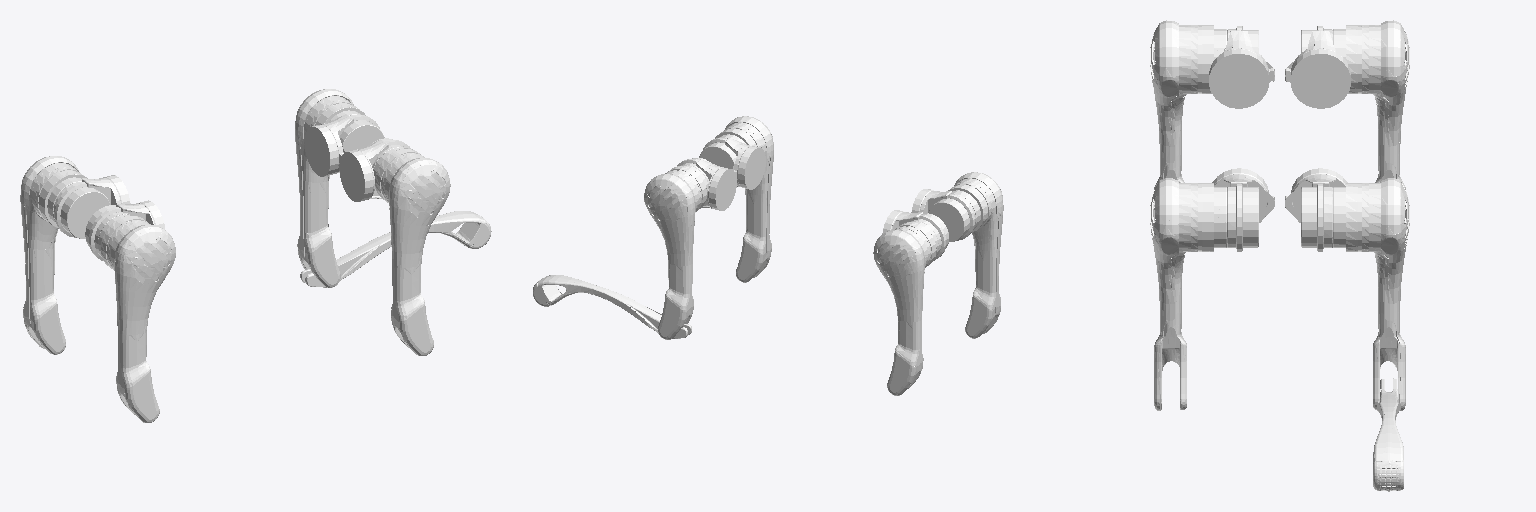
--- What the picture shows (computed from the rendered views, not written in the file) ---
The picture shows the robot from 3 angles, left to right: view 1: azimuth 30°, elevation 25°; view 2: azimuth 150°, elevation 25°; view 3: azimuth 270°, elevation 25°; orthographic projection.
Robot: b1z1_description — 38 links, 37 joints (12 revolute, 25 fixed); root link base; default pose: all joints at 0 but 4 set to mid-range because 0 is outside their limits (FL_calf_joint = -1.62, FR_calf_joint = -1.62, RL_calf_joint = -1.62, RR_calf_joint = -1.62).
Visible links, largest first — view 1: RR_thigh, FR_thigh, RL_thigh, FL_thigh, FL_hip, FL_calf, RL_hip, FR_hip, RR_hip; view 2: RL_thigh, FL_thigh, RR_thigh, FR_thigh, FL_calf, FR_hip, RR_hip, FL_hip, RL_hip; view 3: FR_thigh, FL_thigh, RL_thigh, RR_thigh, RL_hip, RR_hip, FL_hip, FR_hip, FL_calf.
Boxes of the visible links, bbox=[...] form: RR_thigh: bbox=[98, 214, 175, 422]; FR_thigh: bbox=[373, 147, 450, 355]; RL_thigh: bbox=[20, 156, 87, 354]; FL_thigh: bbox=[295, 89, 365, 287]; FL_hip: bbox=[305, 114, 384, 176]; FL_calf: bbox=[300, 211, 491, 287]; RL_hip: bbox=[53, 175, 130, 238]; FR_hip: bbox=[339, 138, 410, 201]; RR_hip: bbox=[85, 200, 164, 260]; RL_thigh: bbox=[873, 221, 938, 395]; FL_thigh: bbox=[644, 165, 708, 339]; RR_thigh: bbox=[948, 172, 1003, 338]; FR_thigh: bbox=[715, 116, 773, 282]; FL_calf: bbox=[533, 275, 691, 338]; FR_hip: bbox=[699, 137, 765, 189]; RR_hip: bbox=[911, 189, 975, 241]; FL_hip: bbox=[677, 158, 736, 210]; RL_hip: bbox=[882, 210, 948, 260]; FR_thigh: bbox=[1150, 178, 1226, 410]; FL_thigh: bbox=[1333, 178, 1409, 410]; RL_thigh: bbox=[1333, 20, 1409, 189]; RR_thigh: bbox=[1150, 20, 1226, 200]; RL_hip: bbox=[1285, 26, 1350, 108]; RR_hip: bbox=[1209, 26, 1274, 108]; FL_hip: bbox=[1285, 168, 1347, 251]; FR_hip: bbox=[1212, 168, 1274, 251]; FL_calf: bbox=[1373, 378, 1403, 491].
Size in the robot's own frame: 1.11 by 0.4582 by 0.4441 metres.
Meshes: 13 distinct files referenced, 9 mesh visuals loaded (9 Collada DAE); not drawn: 4 (reference not matched to a file when rendering).

The robot description file, URDF, robot "b1z1_description":
<robot name="b1z1_description">
  <!-- Common base -->
  <link name="base">
    <visual>
      <origin rpy="0 0 0" xyz="0 0 0" />
      <geometry>
        <box size="0.001 0.001 0.001" />
      </geometry>
    </visual>
  </link>
  <!-- Start of B2 Links and Joints -->
  <joint name="floating_base_joint" type="fixed" dont_collapse="true">
    <origin rpy="0 0 0" xyz="0 0 0" />
    <parent link="base" />
    <child link="floating_base_link" />
  </joint>
  <link
    name="floating_base_link">
    <inertial>
      <origin
        xyz="0.000458 0.005261 0.000665"
        rpy="0 0 0" />
      <mass
        value="35.86" />
      <inertia
        ixx="0.27466"
        ixy="-0.000622"
        ixz="0.00315"
        iyy="1.0618"
        iyz="-0.00139"
        izz="1.1825" />
    </inertial>
    <visual>
      <origin
        xyz="0 0 0"
        rpy="0 0 0" />
      <geometry>
        <mesh
          filename="../meshes/base_link.dae" />
      </geometry>
      <material
        name="">
        <color
          rgba="1 1 1 1" />
      </material>
    </visual>
    <collision>
      <origin
        xyz="0 0 0"
        rpy="0 0 0" />
        <geometry>
          <box size="0.5 0.28 0.15" />
        </geometry>
    </collision>
  </link>
  <joint
    name="joint_lidar"
    type="fixed">
    <origin
      xyz="0.34218 0 0.17851"
      rpy="0 0 0" />
    <parent
      link="floating_base_link" />
    <child
      link="lidar_link" />
    <axis
      xyz="0 0 0" />
  </joint>
  <link
    name="lidar_link">
    <inertial>
      <origin
        xyz="0.34218 0 0.17851"
        rpy="0 0 0" />
      <mass
        value="4.19E-15" />
      <inertia
        ixx="1.68E-27"
        ixy="-3.2E-45"
        ixz="7.68E-44"
        iyy="1.68E-27"
        iyz="-9.26E-47"
        izz="1.68E-27" />
    </inertial>
    <collision>
      <origin
        xyz="0 0 -0.02"
        rpy="0 0 0" />
      <geometry>
        <cylinder length="0.16" radius="0.076" />
        <!-- <mesh
          filename="package://b2/meshes/lidar_link.STL" /> -->
      </geometry>
    </collision>
  </link>
  <joint
    name="f_dc_joint"
    type="fixed">
    <origin
      xyz="0.41251 0.024997 0.04765"
      rpy="-2.3562 0 -1.5708" />
    <parent
      link="floating_base_link" />
    <child
      link="f_dc_link" />
    <axis
      xyz="0 0 0" />
  </joint>
  <link
    name="f_dc_link">
    <inertial>
      <origin
        xyz="3.47E-18 0 5.55E-17"
        rpy="0 0 0" />
      <mass
        value="4.19E-15" />
      <inertia
        ixx="1.68E-27"
        ixy="-9.81E-45"
        ixz="-2.54E-44"
        iyy="1.68E-27"
        iyz="0"
        izz="1.68E-27" />
    </inertial>
  </link>
  <joint
    name="r_dc_joint"
    type="fixed">
    <origin
      xyz="-0.4081 -0.025 0.024861"
      rpy="-2.3557 0 1.5708" />
    <parent
      link="floating_base_link" />
    <child
      link="r_dc_link" />
    <axis
      xyz="0 0 0" />
  </joint>
  <link
    name="r_dc_link">
    <inertial>
      <origin
        xyz="-7.46E-16 -3.33E-16 -1.11E-15"
        rpy="0 0 0" />
      <mass
        value="4.19E-15" />
      <inertia
        ixx="1.68E-27"
        ixy="-4.31E-44"
        ixz="2.48E-45"
        iyy="1.68E-27"
        iyz="0"
        izz="1.68E-27" />
    </inertial>
  </link>
  <joint
    name="imu_joint"
    type="fixed">
    <origin
      xyz="0 -0.02341 0.04927"
      rpy="0 0 0" />
    <parent
      link="floating_base_link" />
    <child
      link="imu_link" />
    <axis
      xyz="0 0 0" />
  </joint>
  <link
    name="imu_link">
    <inertial>
      <origin
        xyz="-2.02E-17 1.73E-17 -1.39E-17"
        rpy="0 0 0" />
      <mass
        value="4.19E-15" />
      <inertia
        ixx="1.68E-27"
        ixy="1.84E-44"
        ixz="-7.35E-44"
        iyy="1.68E-27"
        iyz="-3.67E-44"
        izz="1.68E-27" />
    </inertial>
  </link>
  <joint
    name="head_joint"
    type="fixed">
    <origin
      xyz="0 0 0"
      rpy="0 0 0" />
    <parent
      link="floating_base_link" />
    <child
      link="head_Link" />
    <axis
      xyz="0 0 0" />
  </joint>
  <link
    name="head_Link">
    <inertial>
      <origin
        xyz="0.33989 -0.000168 0.12029"
        rpy="0 0 0" />
      <mass
        value="3.6885" />
      <inertia
        ixx="0.026455"
        ixy="3.15E-05"
        ixz="0.00166"
        iyy="0.029221"
        iyz="-3.27E-05"
        izz="0.010918" />
    </inertial>
    <collision>
      <origin
        xyz="0.41 0 0.005"
        rpy="0 0 0" />
      <geometry>
        <box size="0.04 0.12 0.14" />
      </geometry>
    </collision>
  </link>
  <joint
    name="tail_joint"
    type="fixed">
    <origin
      xyz="0 0 0"
      rpy="0 0 0" />
    <parent
      link="floating_base_link" />
    <child
      link="tail_link" />
    <axis
      xyz="0 0 0" />
  </joint>
  <link
    name="tail_link">
    <inertial>
      <origin
        xyz="-0.37448 0.000488 0.006495"
        rpy="0 0 0" />
      <mass
        value="0.795" />
      <inertia
        ixx="0.0028118"
        ixy="1.95E-05"
        ixz="-7.87E-06"
        iyy="0.0047506"
        iyz="-1.57E-05"
        izz="0.0029154" />
    </inertial>
    <collision>
      <origin
        xyz="-0.405 0 0.005"
        rpy="0 0 0" />
      <geometry>
        <box size="0.025 0.12 0.14" />
      </geometry>
    </collision>
  </link>
  <joint
    name="FL_hip_joint"
    type="revolute">
    <origin
      xyz="0.3285 0.072 0"
      rpy="0 0 0" />
    <parent
      link="floating_base_link" />
    <child
      link="FL_hip" />
    <axis
      xyz="1 0 0" />
    <limit
      lower="-0.87"
      upper="0.87"
      effort="200"
      velocity="23" />
  </joint>
  <link
    name="FL_hip">
    <inertial>
      <origin
        xyz="-0.003841 -0.009068 0"
        rpy="0 0 0" />
      <mass
        value="2.673" />
      <inertia
        ixx="0.0033188"
        ixy="7.16E-05"
        ixz="-3.77E-07"
        iyy="0.0048743"
        iyz="4E-09"
        izz="0.0037087" />
    </inertial>
    <visual>
      <origin
        xyz="0 0 0"
        rpy="0 0 0" />
      <geometry>
        <mesh
          filename="../meshes/FL_hip.dae" />
      </geometry>
      <material
        name="">
        <color
          rgba="1 1 1 1" />
      </material>
    </visual>
    <collision>
      <origin
        xyz="0 0.12 0"
        rpy="1.5707963267948966 0 0" />
      <geometry>
        <cylinder length="0.05" radius="0.07" />
      </geometry>
    </collision>
  </link>
  <joint name="FL_hip_rotor_joint" type="fixed">
    <origin rpy="0 0 0" xyz="0.20205 0.072 0"/>
    <parent link="floating_base_link"/>
    <child link="FL_hip_rotor"/>
  </joint>
  <link name="FL_hip_rotor">
    <collision>
      <origin rpy="0 1.5707963267948966 0" xyz="0 0 0"/>
      <geometry>
        <cylinder length="0.02" radius="0.05"/>
      </geometry>
    </collision>
    <inertial>
      <origin rpy="0 0 0" xyz="0.0 0.0 0.0"/>
      <mass value="0.2734"/>
      <inertia ixx="0.000144463" ixy="0.0" ixz="0.0" iyy="0.000144463" iyz="0.0" izz="0.000263053"/>
    </inertial>
  </link>
  <joint
    name="FL_thigh_joint"
    type="revolute">
    <origin
      xyz="0 0.11973 0"
      rpy="0 0 0" />
    <parent
      link="FL_hip" />
    <child
      link="FL_thigh" />
    <axis
      xyz="0 1 0" />
    <limit
      lower="-0.94"
      upper="4.69"
      effort="200"
      velocity="23" />
  </joint>
  <link
    name="FL_thigh">
    <inertial>
      <origin
        xyz="-0.006279 -0.032049 -0.057835"
        rpy="0 0 0" />
      <mass
        value="4.536" />
      <inertia
        ixx="0.062299"
        ixy="0.00087781"
        ixz="-0.0036475"
        iyy="0.061399"
        iyz="0.0083537"
        izz="0.0081997" />
    </inertial>
    <visual>
      <origin
        xyz="0 0 0"
        rpy="0 0 0" />
      <geometry>
        <mesh
          filename="../meshes/FL_thigh.dae" />
      </geometry>
      <material
        name="">
        <color
          rgba="1 1 1 1" />
      </material>
    </visual>
    <collision>
      <origin
        xyz="-0.025 0 -0.16"
        rpy="0 1.57 0" />
      <geometry>
        <box size="0.32 0.0445 0.054" />
      </geometry>
    </collision>
  </link>
  <joint name="FL_thigh_rotor_joint" type="fixed">
    <origin rpy="0 0 0" xyz="0 -0.00798 0"/>
    <parent link="FL_hip"/>
    <child link="FL_thigh_rotor"/>
  </joint>
  <link name="FL_thigh_rotor">
    <collision>
      <origin rpy="1.5707963267948966 0 0" xyz="0 0 0"/>
      <geometry>
        <cylinder length="0.02" radius="0.05"/>
      </geometry>
    </collision>
    <inertial>
      <origin rpy="0 0 0" xyz="0.0 0.0 0.0"/>
      <mass value="0.2734"/>
      <inertia ixx="0.000144463" ixy="0.0" ixz="0.0" iyy="0.000144463" iyz="0.0" izz="0.000263053"/>
    </inertial>
  </link>
  <joint
    name="FL_calf_joint"
    type="revolute">
    <origin
      xyz="0 -8.6984E-05 -0.35"
      rpy="0 0 0" />
    <parent
      link="FL_thigh" />
    <child
      link="FL_calf" />
    <axis
      xyz="0 1 0" />
    <limit
      lower="-2.82"
      upper="-0.43"
      effort="320"
      velocity="14" />
  </joint>
  <link
    name="FL_calf">
    <inertial>
      <origin
        xyz="0.012422 0 -0.12499"
        rpy="0 0 0" />
      <mass
        value="0.404" />
      <inertia
        ixx="0.01143"
        ixy="0"
        ixz="0.000643"
        iyy="0.011534"
        iyz="0"
        izz="0.000331" />
    </inertial>
    <visual>
      <origin
        xyz="0 0 0"
        rpy="0 0 0" />
      <geometry>
        <mesh
          filename="../meshes/FL_calf.dae" />
      </geometry>
      <material
        name="">
        <color
          rgba="1 1 1 1" />
      </material>
    </visual>
    <collision>
      <origin rpy="0 1.2 0" xyz="-0.002 0 -0.03"/>
      <geometry>
        <box size="0.1 0.0245 0.018"/>
      </geometry>
    </collision>
    <collision>
      <origin rpy="0 1.35 0" xyz="0.022 0 -0.1"/>
      <geometry>
        <box size="0.1 0.0245 0.018"/>
      </geometry>
    </collision>
    <collision>
      <origin rpy="0 1.53 0" xyz="0.036 0 -0.225"/>
      <geometry>
        <box size="0.15 0.0245 0.015"/>
      </geometry>
    </collision>
    <collision>
      <origin rpy="0 2 0" xyz="0.023 0 -0.31"/>
      <geometry>
        <box size="0.05 0.028 0.035"/>
      </geometry>
    </collision>
  </link>
  <joint name="FL_calf_rotor_joint" type="fixed">
    <origin rpy="0 0 0" xyz="0 -0.05788 0"/>
    <parent link="FL_thigh"/>
    <child link="FL_calf_rotor"/>
  </joint>
  <link name="FL_calf_rotor">
    <collision>
      <origin rpy="1.5707963267948966 0 0" xyz="0 0 0"/>
      <geometry>
        <cylinder length="0.02" radius="0.05"/>
      </geometry>
    </collision>
    <inertial>
      <origin rpy="0 0 0" xyz="0.0 0.0 0.0"/>
      <mass value="0.2734"/>
      <inertia ixx="0.000144463" ixy="0.0" ixz="0.0" iyy="0.000144463" iyz="0.0" izz="0.000263053"/>
    </inertial>
  </link>
  <joint
    name="FL_foot_joint"
    type="fixed">
    <origin
      xyz="0 0 -0.35"
      rpy="0 0 0" />
    <parent
      link="FL_calf" />
    <child
      link="FL_foot" />
  </joint>
  <link
    name="FL_foot">
    <inertial>
      <origin
        xyz="-0.006511 0 -0.010144"
        rpy="0 0 0" />
      <mass
        value="0.126" />
      <inertia
        ixx="3.8E-05"
        ixy="0"
        ixz="1.1E-05"
        iyy="4.1E-05"
        iyz="0"
        izz="4.2E-05" />
    </inertial>
    <collision>
      <origin
        xyz="0 0 0"
        rpy="1.57 0 0" />
      <geometry>
        <sphere radius="0.032" />
      </geometry>
    </collision>
  </link>
  <joint
    name="FR_hip_joint"
    type="revolute">
    <origin
      xyz="0.3285 -0.072 0"
      rpy="0 0 0" />
    <parent
      link="floating_base_link" />
    <child
      link="FR_hip" />
    <axis
      xyz="1 0 0" />
    <limit
      lower="-0.87"
      upper="0.87"
      effort="200"
      velocity="23" />
  </joint>
  <link
    name="FR_hip">
    <inertial>
      <origin
        xyz="-0.009305 0.010228 0.000264"
        rpy="0 0 0" />
      <mass
        value="2.673" />
      <inertia
        ixx="0.0026431"
        ixy="-0.00019234"
        ixz="-6.76E-06"
        iyy="0.0046728"
        iyz="7.16E-06"
        izz="0.0034208" />
    </inertial>
    <visual>
      <origin
        xyz="0 0 0"
        rpy="0 0 0" />
      <geometry>
        <mesh
          filename="../meshes/FR_hip.dae" />
      </geometry>
      <material
        name="">
        <color
          rgba="1 1 1 1" />
      </material>
    </visual>
    <collision>
      <origin
        xyz="0 -0.12 0"
        rpy="1.5707963267948966 0 0" />
      <geometry>
        <cylinder length="0.05" radius="0.07" />
      </geometry>
    </collision>
  </link>
  <joint name="FR_hip_rotor_joint" type="fixed">
    <origin rpy="0 0 0" xyz="0.20205 -0.072 0"/>
    <parent link="floating_base_link"/>
    <child link="FR_hip_rotor"/>
  </joint>
  <link name="FR_hip_rotor">
    <collision>
      <origin rpy="0 1.5707963267948966 0" xyz="0 0 0"/>
      <geometry>
        <cylinder length="0.02" radius="0.05"/>
      </geometry>
    </collision>
    <inertial>
      <origin rpy="0 0 0" xyz="0.0 0.0 0.0"/>
      <mass value="0.2734"/>
      <inertia ixx="0.000144463" ixy="0.0" ixz="0.0" iyy="0.000144463" iyz="0.0" izz="0.000263053"/>
    </inertial>
  </link>
  <joint
    name="FR_thigh_joint"
    type="revolute">
    <origin
      xyz="0 -0.11973 0"
      rpy="0 0 0" />
    <parent
      link="FR_hip" />
    <child
      link="FR_thigh" />
    <axis
      xyz="0 1 0" />
    <limit
      lower="-0.94"
      upper="4.69"
      effort="200"
      velocity="23" />
  </joint>
  <link
    name="FR_thigh">
    <inertial>
      <origin
        xyz="-0.006279 0.032049 -0.057835"
        rpy="0 0 0" />
      <mass
        value="4.536" />
      <inertia
        ixx="0.06229908"
        ixy="-0.000877808"
        ixz="-0.003647464"
        iyy="0.06139927"
        iyz="-0.008353671"
        izz="0.008199745" />
    </inertial>
    <visual>
      <origin
        xyz="0 0 0"
        rpy="0 0 0" />
      <geometry>
        <mesh
          filename="../meshes/FR_thigh.dae" />
      </geometry>
      <material
        name="">
        <color
          rgba="1 1 1 1" />
      </material>
    </visual>
    <collision>
      <origin rpy="0 1.57 0" xyz="-0.03 0 -0.2"/>
      <geometry>
        <box size="0.25 0.028 0.04"/>
      </geometry>
    </collision>
  </link>
  <joint name="FR_thigh_rotor_joint" type="fixed">
    <origin rpy="0 0 0" xyz="0 0.00798 0"/>
    <parent link="FR_hip"/>
    <child link="FR_thigh_rotor"/>
  </joint>
  <link name="FR_thigh_rotor">
    <collision>
      <origin rpy="1.5707963267948966 0 0" xyz="0 0 0"/>
      <geometry>
        <cylinder length="0.02" radius="0.05"/>
      </geometry>
    </collision>
    <inertial>
      <origin rpy="0 0 0" xyz="0.0 0.0 0.0"/>
      <mass value="0.2734"/>
      <inertia ixx="0.000144463" ixy="0.0" ixz="0.0" iyy="0.000144463" iyz="0.0" izz="0.000263053"/>
    </inertial>
  </link>
  <joint
    name="FR_calf_joint"
    type="revolute">
    <origin
      xyz="0 8.6986E-05 -0.35"
      rpy="0 0 0" />
    <parent
      link="FR_thigh" />
    <child
      link="FR_calf" />
    <axis
      xyz="0 1 0" />
    <limit
      lower="-2.82"
      upper="-0.43"
      effort="320"
      velocity="14" />
  </joint>
  <link
    name="FR_calf">
    <inertial>
      <origin
        xyz="0.012422 0 -0.12499"
        rpy="0 0 0" />
      <mass
        value="0.404" />
      <inertia
        ixx="0.01143"
        ixy="0"
        ixz="0.000643"
        iyy="0.011534"
        iyz="0"
        izz="0.000331" />
    </inertial>
    <visual>
      <origin
        xyz="0 0 0"
        rpy="0 0 0" />
      <geometry>
        <mesh
          filename="../meshes/FR_calf.dae" />
      </geometry>
      <material
        name="">
        <color
          rgba="1 1 1 1" />
      </material>
    </visual>
    <collision>
      <origin rpy="0 1.2 0" xyz="-0.002 0 -0.03"/>
      <geometry>
        <box size="0.1 0.0245 0.018"/>
      </geometry>
    </collision>
    <collision>
      <origin rpy="0 1.35 0" xyz="0.022 0 -0.1"/>
      <geometry>
        <box size="0.1 0.0245 0.018"/>
      </geometry>
    </collision>
    <collision>
      <origin rpy="0 1.53 0" xyz="0.036 0 -0.225"/>
      <geometry>
        <box size="0.15 0.0245 0.015"/>
      </geometry>
    </collision>
    <collision>
      <origin rpy="0 2 0" xyz="0.023 0 -0.31"/>
      <geometry>
        <box size="0.05 0.028 0.035"/>
      </geometry>
    </collision>
  </link>
  <joint name="FR_calf_rotor_joint" type="fixed">
    <origin rpy="0 0 0" xyz="0 0.05788 0"/>
    <parent link="FR_thigh"/>
    <child link="FR_calf_rotor"/>
  </joint>
  <link name="FR_calf_rotor">
    <collision>
      <origin rpy="1.5707963267948966 0 0" xyz="0 0 0"/>
      <geometry>
        <cylinder length="0.02" radius="0.05"/>
      </geometry>
    </collision>
    <inertial>
      <origin rpy="0 0 0" xyz="0.0 0.0 0.0"/>
      <mass value="0.2734"/>
      <inertia ixx="0.000144463" ixy="0.0" ixz="0.0" iyy="0.000144463" iyz="0.0" izz="0.000263053"/>
    </inertial>
  </link>
  <joint
    name="FR_foot_joint"
    type="fixed">
    <origin
      xyz="0 0 -0.35"
      rpy="0 0 0" />
    <parent
      link="FR_calf" />
    <child
      link="FR_foot" />
  </joint>
  <link
    name="FR_foot">
    <inertial>
      <origin
        xyz="-0.006511 0 -0.010144"
        rpy="0 0 0" />
      <mass
        value="0.126" />
      <inertia
        ixx="3.8E-05"
        ixy="0"
        ixz="1.1E-05"
        iyy="4.1E-05"
        iyz="0"
        izz="4.2E-05" />
    </inertial>
    <collision>
      <origin
        xyz="0 0 0"
        rpy="1.57 0 0" />
      <geometry>
        <sphere radius="0.032" />
      </geometry>
    </collision>
  </link>
  <joint
    name="RL_hip_joint"
    type="revolute">
    <origin
      xyz="-0.3285 0.072 0"
      rpy="0 0 0" />
    <parent
      link="floating_base_link" />
    <child
      link="RL_hip" />
    <axis
      xyz="1 0 0" />
    <limit
      lower="-0.87"
      upper="0.87"
      effort="200"
      velocity="23" />
  </joint>
  <link
    name="RL_hip">
    <inertial>
      <origin
        xyz="0.009305 -0.010228 0.000264"
        rpy="0 0 0" />
      <mass
        value="2.673" />
      <inertia
        ixx="0.0026431"
        ixy="-0.00019234"
        ixz="6.76E-06"
        iyy="0.0046728"
        iyz="-7.16E-06"
        izz="0.0034208" />
    </inertial>
    <visual>
      <origin
        xyz="0 0 0"
        rpy="0 0 0" />
      <geometry>
        <mesh
          filename="../meshes/RL_hip.dae" />
      </geometry>
      <material
        name="">
        <color
          rgba="1 1 1 1" />
      </material>
    </visual>
    <collision>
      <origin
        xyz="0 0.12 0"
        rpy="1.5707963267948966 0 0" />
      <geometry>
        <cylinder length="0.05" radius="0.07" />
      </geometry>
    </collision>
  </link>
  <joint name="RL_hip_rotor_joint" type="fixed">
    <origin rpy="0 0 0" xyz="-0.20205 0.072 0"/>
    <parent link="floating_base_link"/>
    <child link="RL_hip_rotor"/>
  </joint>
  <link name="RL_hip_rotor">
    <collision>
      <origin rpy="0 1.5707963267948966 0" xyz="0 0 0"/>
      <geometry>
        <cylinder length="0.02" radius="0.05"/>
      </geometry>
    </collision>
    <inertial>
      <origin rpy="0 0 0" xyz="0.0 0.0 0.0"/>
      <mass value="0.2734"/>
      <inertia ixx="0.000144463" ixy="0.0" ixz="0.0" iyy="0.000144463" iyz="0.0" izz="0.000263053"/>
    </inertial>
  </link>
  <joint
    name="RL_thigh_joint"
    type="revolute">
    <origin
      xyz="0 0.11973 0"
      rpy="0 0 0" />
    <parent
      link="RL_hip" />
    <child
      link="RL_thigh" />
    <axis
      xyz="0 1 0" />
    <limit
      lower="-0.94"
      upper="4.69"
      effort="200"
      velocity="23" />
  </joint>
  <link
    name="RL_thigh">
    <inertial>
      <origin
        xyz="-0.006279 -0.032049 -0.057835"
        rpy="0 0 0" />
      <mass
        value="4.536" />
      <inertia
        ixx="0.06229908"
        ixy="0.000877808"
        ixz="-0.003647464"
        iyy="0.06139927"
        iyz="0.008353671"
        izz="0.008199745" />
    </inertial>
    <visual>
      <origin
        xyz="0 0 0"
        rpy="0 0 0" />
      <geometry>
        <mesh
          filename="../meshes/RL_thigh.dae" />
      </geometry>
      <material
        name="">
        <color
          rgba="1 1 1 1" />
      </material>
    </visual>
    <collision>
      <origin rpy="0 1.57 0" xyz="-0.03 0 -0.2"/>
      <geometry>
        <box size="0.25 0.028 0.04"/>
      </geometry>
    </collision>
  </link>
  <joint name="RL_thigh_rotor_joint" type="fixed">
    <origin rpy="0 0 0" xyz="0 -0.00798 0"/>
    <parent link="RL_hip"/>
    <child link="RL_thigh_rotor"/>
  </joint>
  <link name="RL_thigh_rotor">
    <collision>
      <origin rpy="1.5707963267948966 0 0" xyz="0 0 0"/>
      <geometry>
        <cylinder length="0.02" radius="0.05"/>
      </geometry>
    </collision>
    <inertial>
      <origin rpy="0 0 0" xyz="0.0 0.0 0.0"/>
      <mass value="0.2734"/>
      <inertia ixx="0.000144463" ixy="0.0" ixz="0.0" iyy="0.000144463" iyz="0.0" izz="0.000263053"/>
    </inertial>
  </link>
  <joint
    name="RL_calf_joint"
    type="revolute">
    <origin
      xyz="0 -8.6984E-05 -0.35"
      rpy="0 0 0" />
    <parent
      link="RL_thigh" />
    <child
      link="RL_calf" />
    <axis
      xyz="0 1 0" />
    <limit
      lower="-2.82"
      upper="-0.43"
      effort="320"
      velocity="14" />
  </joint>
  <link
    name="RL_calf">
    <inertial>
      <origin
        xyz="0.012422 0 -0.12499"
        rpy="0 0 0" />
      <mass
        value="0.404" />
      <inertia
        ixx="0.01143"
        ixy="0"
        ixz="0.000643"
        iyy="0.011534"
        iyz="0"
        izz="0.000331" />
    </inertial>
    <visual>
      <origin
        xyz="0 0 0"
        rpy="0 0 0" />
      <geometry>
        <mesh
          filename="../meshes/RL_calf.dae" />
      </geometry>
      <material
        name="">
        <color
          rgba="1 1 1 1" />
      </material>
    </visual>
    <collision>
      <origin rpy="0 1.2 0" xyz="-0.002 0 -0.03"/>
      <geometry>
        <box size="0.1 0.0245 0.018"/>
      </geometry>
    </collision>
    <collision>
      <origin rpy="0 1.35 0" xyz="0.022 0 -0.1"/>
      <geometry>
        <box size="0.1 0.0245 0.018"/>
      </geometry>
    </collision>
    <collision>
      <origin rpy="0 1.53 0" xyz="0.036 0 -0.225"/>
      <geometry>
        <box size="0.15 0.0245 0.015"/>
      </geometry>
    </collision>
    <collision>
      <origin rpy="0 2 0" xyz="0.023 0 -0.31"/>
      <geometry>
        <box size="0.05 0.028 0.035"/>
      </geometry>
    </collision>
  </link>
  <joint name="RL_calf_rotor_joint" type="fixed">
    <origin rpy="0 0 0" xyz="0 -0.05788 0"/>
    <parent link="RL_thigh"/>
    <child link="RL_calf_rotor"/>
  </joint>
  <link name="RL_calf_rotor">
    <collision>
      <origin rpy="1.5707963267948966 0 0" xyz="0 0 0"/>
      <geometry>
        <cylinder length="0.02" radius="0.05"/>
      </geometry>
    </collision>
    <inertial>
      <origin rpy="0 0 0" xyz="0.0 0.0 0.0"/>
      <mass value="0.2734"/>
      <inertia ixx="0.000144463" ixy="0.0" ixz="0.0" iyy="0.000144463" iyz="0.0" izz="0.000263053"/>
    </inertial>
  </link>
  <joint
    name="RL_foot_joint"
    type="fixed">
    <origin
      xyz="0 0 -0.35"
      rpy="0 0 0" />
    <parent
      link="RL_calf" />
    <child
      link="RL_foot" />
  </joint>
  <link
    name="RL_foot">
    <inertial>
      <origin
        xyz="-0.006511 0 -0.010144"
        rpy="0 0 0" />
      <mass
        value="0.126" />
      <inertia
        ixx="3.8E-05"
        ixy="0"
        ixz="1.1E-05"
        iyy="4.1E-05"
        iyz="0"
        izz="4.2E-05" />
    </inertial>
    <collision>
      <origin
        xyz="0 0 0"
        rpy="1.57 0 0" />
      <geometry>
        <sphere radius="0.032" />
      </geometry>
    </collision>
  </link>
  <joint
    name="RR_hip_joint"
    type="revolute">
    <origin
      xyz="-0.3285 -0.072 0"
      rpy="0 0 0" />
    <parent
      link="floating_base_link" />
    <child
      link="RR_hip" />
    <axis
      xyz="1 0 0" />
    <limit
      lower="-0.87"
      upper="0.87"
      effort="200"
      velocity="23" />
  </joint>
  <link
    name="RR_hip">
    <inertial>
      <origin
        xyz="0.003841 0.009068 0"
        rpy="0 0 0" />
      <mass
        value="2.673" />
      <inertia
        ixx="0.0033188"
        ixy="7.16E-05"
        ixz="3.77E-07"
        iyy="0.0048743"
        iyz="-4E-09"
        izz="0.0037087" />
    </inertial>
    <visual>
      <origin
        xyz="0 0 0"
        rpy="0 0 0" />
      <geometry>
        <mesh
          filename="../meshes/RR_hip.dae" />
      </geometry>
      <material
        name="">
        <color
          rgba="1 1 1 1" />
      </material>
    </visual>
    <collision>
      <origin
        xyz="0 -0.12 0"
        rpy="1.5707963267948966 0 0" />
      <geometry>
        <cylinder length="0.05" radius="0.07" />
      </geometry>
    </collision>
  </link>
  <joint name="RR_hip_rotor_joint" type="fixed">
    <origin rpy="0 0 0" xyz="-0.20205 -0.072 0"/>
    <parent link="floating_base_link"/>
    <child link="RR_hip_rotor"/>
  </joint>
  <link name="RR_hip_rotor">
    <collision>
      <origin rpy="0 1.5707963267948966 0" xyz="0 0 0"/>
      <geometry>
        <cylinder length="0.02" radius="0.05"/>
      </geometry>
    </collision>
    <inertial>
      <origin rpy="0 0 0" xyz="0.0 0.0 0.0"/>
      <mass value="0.2734"/>
      <inertia ixx="0.000144463" ixy="0.0" ixz="0.0" iyy="0.000144463" iyz="0.0" izz="0.000263053"/>
    </inertial>
  </link>
  <joint
    name="RR_thigh_joint"
    type="revolute">
    <origin
      xyz="0 -0.11973 0"
      rpy="0 0 0" />
    <parent
      link="RR_hip" />
    <child
      link="RR_thigh" />
    <axis
      xyz="0 1 0" />
    <limit
      lower="-0.94"
      upper="4.69"
      effort="200"
      velocity="23" />
  </joint>
  <link
    name="RR_thigh">
    <inertial>
      <origin
        xyz="-0.006279 0.032049 -0.057835"
        rpy="0 0 0" />
      <mass
        value="4.536" />
      <inertia
        ixx="0.062299"
        ixy="-0.00087781"
        ixz="-0.0036475"
        iyy="0.061399"
        iyz="-0.0083537"
        izz="0.0081997" />
    </inertial>
    <visual>
      <origin
        xyz="0 0 0"
        rpy="0 0 0" />
      <geometry>
        <mesh
          filename="../meshes/RR_thigh.dae" />
      </geometry>
      <material
        name="">
        <color
          rgba="1 1 1 1" />
      </material>
    </visual>
    <collision>
      <origin rpy="0 1.57 0" xyz="-0.03 0 -0.2"/>
      <geometry>
        <box size="0.25 0.028 0.04"/>
      </geometry>
    </collision>
  </link>
  <joint name="RR_thigh_rotor_joint" type="fixed">
    <origin rpy="0 0 0" xyz="0 0.00798 0"/>
    <parent link="RR_hip"/>
    <child link="RR_thigh_rotor"/>
  </joint>
  <link name="RR_thigh_rotor">
    <collision>
      <origin rpy="1.5707963267948966 0 0" xyz="0 0 0"/>
      <geometry>
        <cylinder length="0.02" radius="0.05"/>
      </geometry>
    </collision>
    <inertial>
      <origin rpy="0 0 0" xyz="0.0 0.0 0.0"/>
      <mass value="0.2734"/>
      <inertia ixx="0.000144463" ixy="0.0" ixz="0.0" iyy="0.000144463" iyz="0.0" izz="0.000263053"/>
    </inertial>
  </link>
  <joint
    name="RR_calf_joint"
    type="revolute">
    <origin
      xyz="0 8.6986E-05 -0.35"
      rpy="0 0 0" />
    <parent
      link="RR_thigh" />
    <child
      link="RR_calf" />
    <axis
      xyz="0 1 0" />
    <limit
      lower="-2.82"
      upper="-0.43"
      effort="320"
      velocity="14" />
  </joint>
  <link
    name="RR_calf">
    <inertial>
      <origin
        xyz="0.012422 0 -0.12499"
        rpy="0 0 0" />
      <mass
        value="0.404" />
      <inertia
        ixx="0.01143"
        ixy="0"
        ixz="0.000643"
        iyy="0.011534"
        iyz="0"
        izz="0.000331" />
    </inertial>
    <visual>
      <origin
        xyz="0 0 0"
        rpy="0 0 0" />
      <geometry>
        <mesh
          filename="../meshes/RR_calf.dae" />
      </geometry>
      <material
        name="">
        <color
          rgba="1 1 1 1" />
      </material>
    </visual>
    <collision>
      <origin rpy="0 1.2 0" xyz="-0.002 0 -0.03"/>
      <geometry>
        <box size="0.1 0.0245 0.018"/>
      </geometry>
    </collision>
    <collision>
      <origin rpy="0 1.35 0" xyz="0.022 0 -0.1"/>
      <geometry>
        <box size="0.1 0.0245 0.018"/>
      </geometry>
    </collision>
    <collision>
      <origin rpy="0 1.53 0" xyz="0.036 0 -0.225"/>
      <geometry>
        <box size="0.15 0.0245 0.015"/>
      </geometry>
    </collision>
    <collision>
      <origin rpy="0 2 0" xyz="0.023 0 -0.31"/>
      <geometry>
        <box size="0.05 0.028 0.035"/>
      </geometry>
    </collision>
  </link>
  <joint name="RR_calf_rotor_joint" type="fixed">
    <origin rpy="0 0 0" xyz="0 0.05788 0"/>
    <parent link="RR_thigh"/>
    <child link="RR_calf_rotor"/>
  </joint>
  <link name="RR_calf_rotor">
    <collision>
      <origin rpy="1.5707963267948966 0 0" xyz="0 0 0"/>
      <geometry>
        <cylinder length="0.02" radius="0.05"/>
      </geometry>
    </collision>
    <inertial>
      <origin rpy="0 0 0" xyz="0.0 0.0 0.0"/>
      <mass value="0.2734"/>
      <inertia ixx="0.000144463" ixy="0.0" ixz="0.0" iyy="0.000144463" iyz="0.0" izz="0.000263053"/>
    </inertial>
  </link>
  <joint
    name="RR_foot_joint"
    type="fixed">
    <origin
      xyz="0 -8.6984E-05 -0.35"
      rpy="0 0 0" />
    <parent
      link="RR_calf" />
    <child
      link="RR_foot" />
  </joint>
  <link
    name="RR_foot">
    <inertial>
      <origin
        xyz="-0.006511 0 -0.010144"
        rpy="0 0 0" />
      <mass
        value="0.126" />
      <inertia
        ixx="3.8E-05"
        ixy="0"
        ixz="1.1E-05"
        iyy="4.1E-05"
        iyz="0"
        izz="4.2E-05" />
    </inertial>
    <collision>
      <origin
        xyz="0 0 0"
        rpy="1.57 0 0" />
      <geometry>
        <sphere radius="0.032" />
      </geometry>
    </collision>
  </link>
  <joint
    name="joint_f_oc"
    type="fixed">
    <origin
      xyz="0.39079 0 -0.013433"
      rpy="-1.5708 0 -1.5708" />
    <parent
      link="floating_base_link" />
    <child
      link="f_oc_link" />
    <axis
      xyz="0 0 0" />
  </joint>
  <link
    name="f_oc_link">
    <inertial>
      <origin
        xyz="-3.39E-15 1.46E-16 -6.11E-16"
        rpy="0 0 0" />
      <mass
        value="4.19E-15" />
      <inertia
        ixx="1.68E-27"
        ixy="-3.89E-44"
        ixz="5.04E-44"
        iyy="1.68E-27"
        iyz="2.81E-45"
        izz="1.68E-27" />
    </inertial>
  </link>
  <joint
    name="joint_r_oc"
    type="fixed">
    <origin
      xyz="-0.38451 0 -0.023249"
      rpy="-1.5708 0 1.5708" />
    <parent
      link="floating_base_link" />
    <child
      link="r_oc_link" />
    <axis
      xyz="0 0 0" />
  </joint>
  <link
    name="r_oc_link">
    <inertial>
      <origin
        xyz="-0.39143 1.52E-07 -0.011961"
        rpy="0 0 0" />
      <mass
        value="4.19E-12" />
      <inertia
        ixx="1.68E-22"
        ixy="9.03E-39"
        ixz="0"
        iyy="1.68E-22"
        iyz="-1.2E-38"
        izz="1.68E-22" />
    </inertial>
  </link>
</robot>
